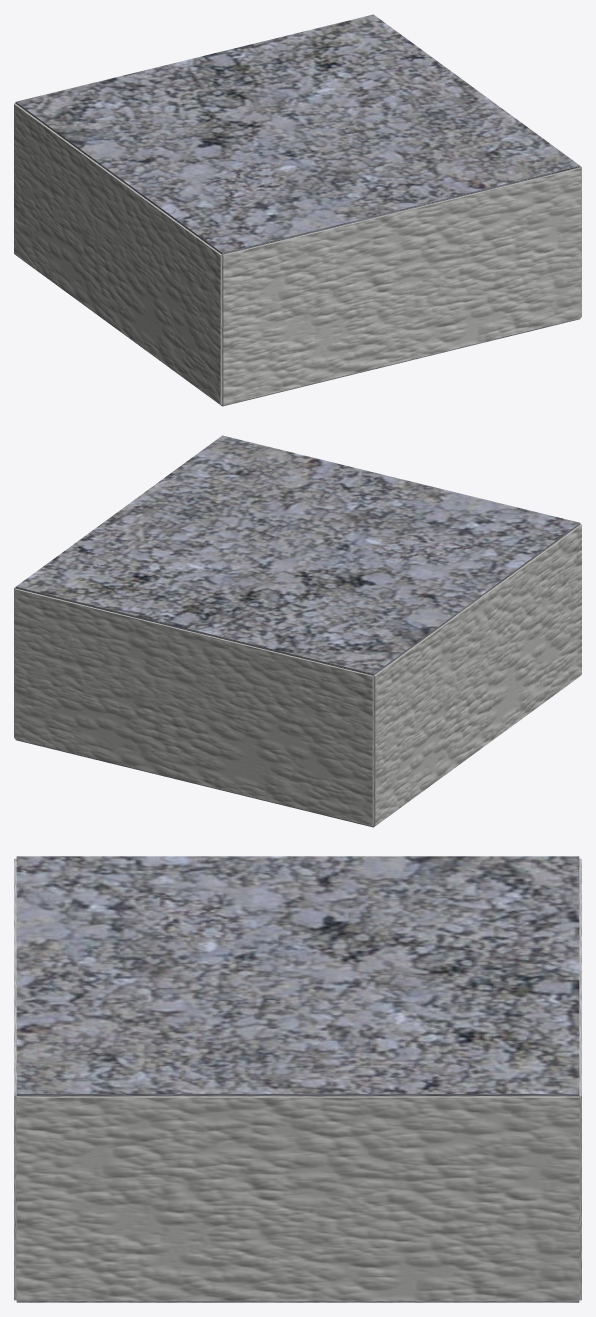
The model's file is Building.fbx.
3 renders of one model, top to bottom at view 1: azimuth 30°, elevation 25°; view 2: azimuth 150°, elevation 25°; view 3: azimuth 270°, elevation 25°, orthographic. The views are drawn at different scales.
Visible parts, largest first — view 1: WALLS, ROOF, FLOOR; view 2: WALLS, ROOF, FLOOR; view 3: ROOF, WALLS, FLOOR.
Part boxes in pixels (bbox=[...]): WALLS: bbox=[14, 102, 581, 405]; ROOF: bbox=[15, 14, 580, 254]; FLOOR: bbox=[28, 264, 580, 406]; WALLS: bbox=[14, 523, 581, 826]; ROOF: bbox=[15, 435, 580, 675]; FLOOR: bbox=[15, 685, 567, 827]; ROOF: bbox=[16, 856, 579, 1096]; WALLS: bbox=[14, 858, 581, 1301]; FLOOR: bbox=[16, 1301, 579, 1302].
Bounding box in the file's own units: 1010 × 410 × 1010.
